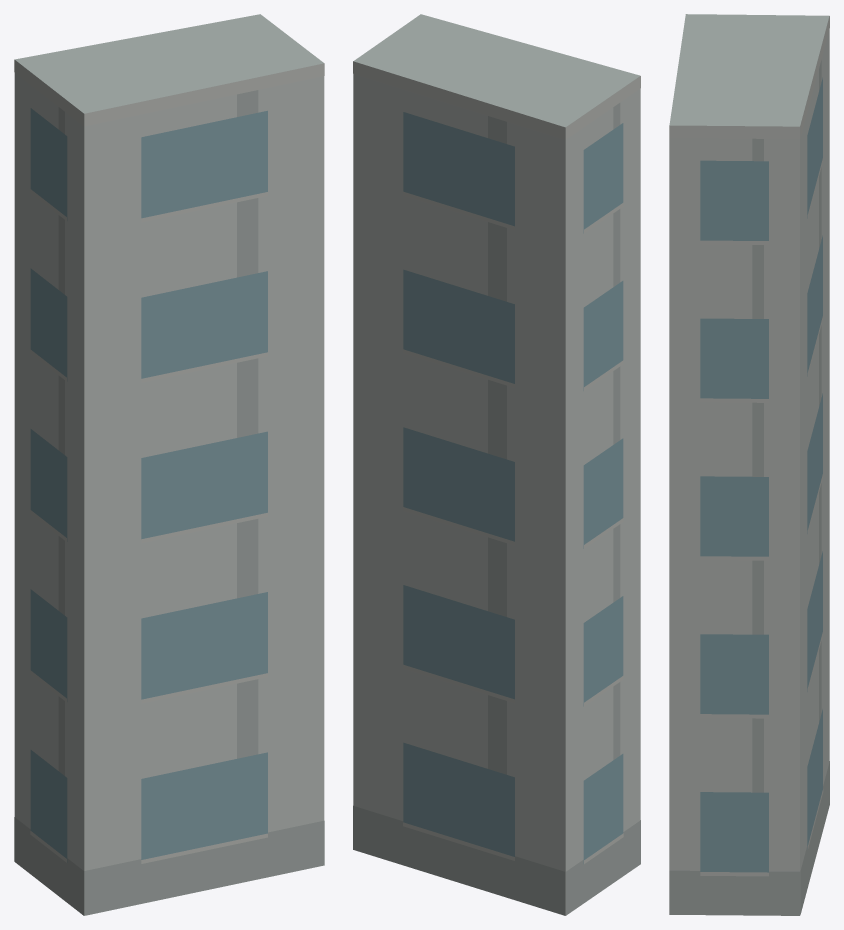
The model's file is survey-upis-32812383.glb.
The picture shows the model from 3 angles, left to right: view 1: azimuth 30°, elevation 25°; view 2: azimuth 150°, elevation 25°; view 3: azimuth 270°, elevation 25°; orthographic projection.
Parts seen in each view (by area): view 1: survey-upis-32812383.tmp; view 2: survey-upis-32812383.tmp; view 3: survey-upis-32812383.tmp.
Part boxes in pixels (x1,y1,x2,y2): survey-upis-32812383.tmp: [14, 14, 324, 915]; survey-upis-32812383.tmp: [353, 14, 640, 915]; survey-upis-32812383.tmp: [669, 14, 829, 915].
Bounding box in the file's own units: 4.67 × 15.25 × 2.82.
